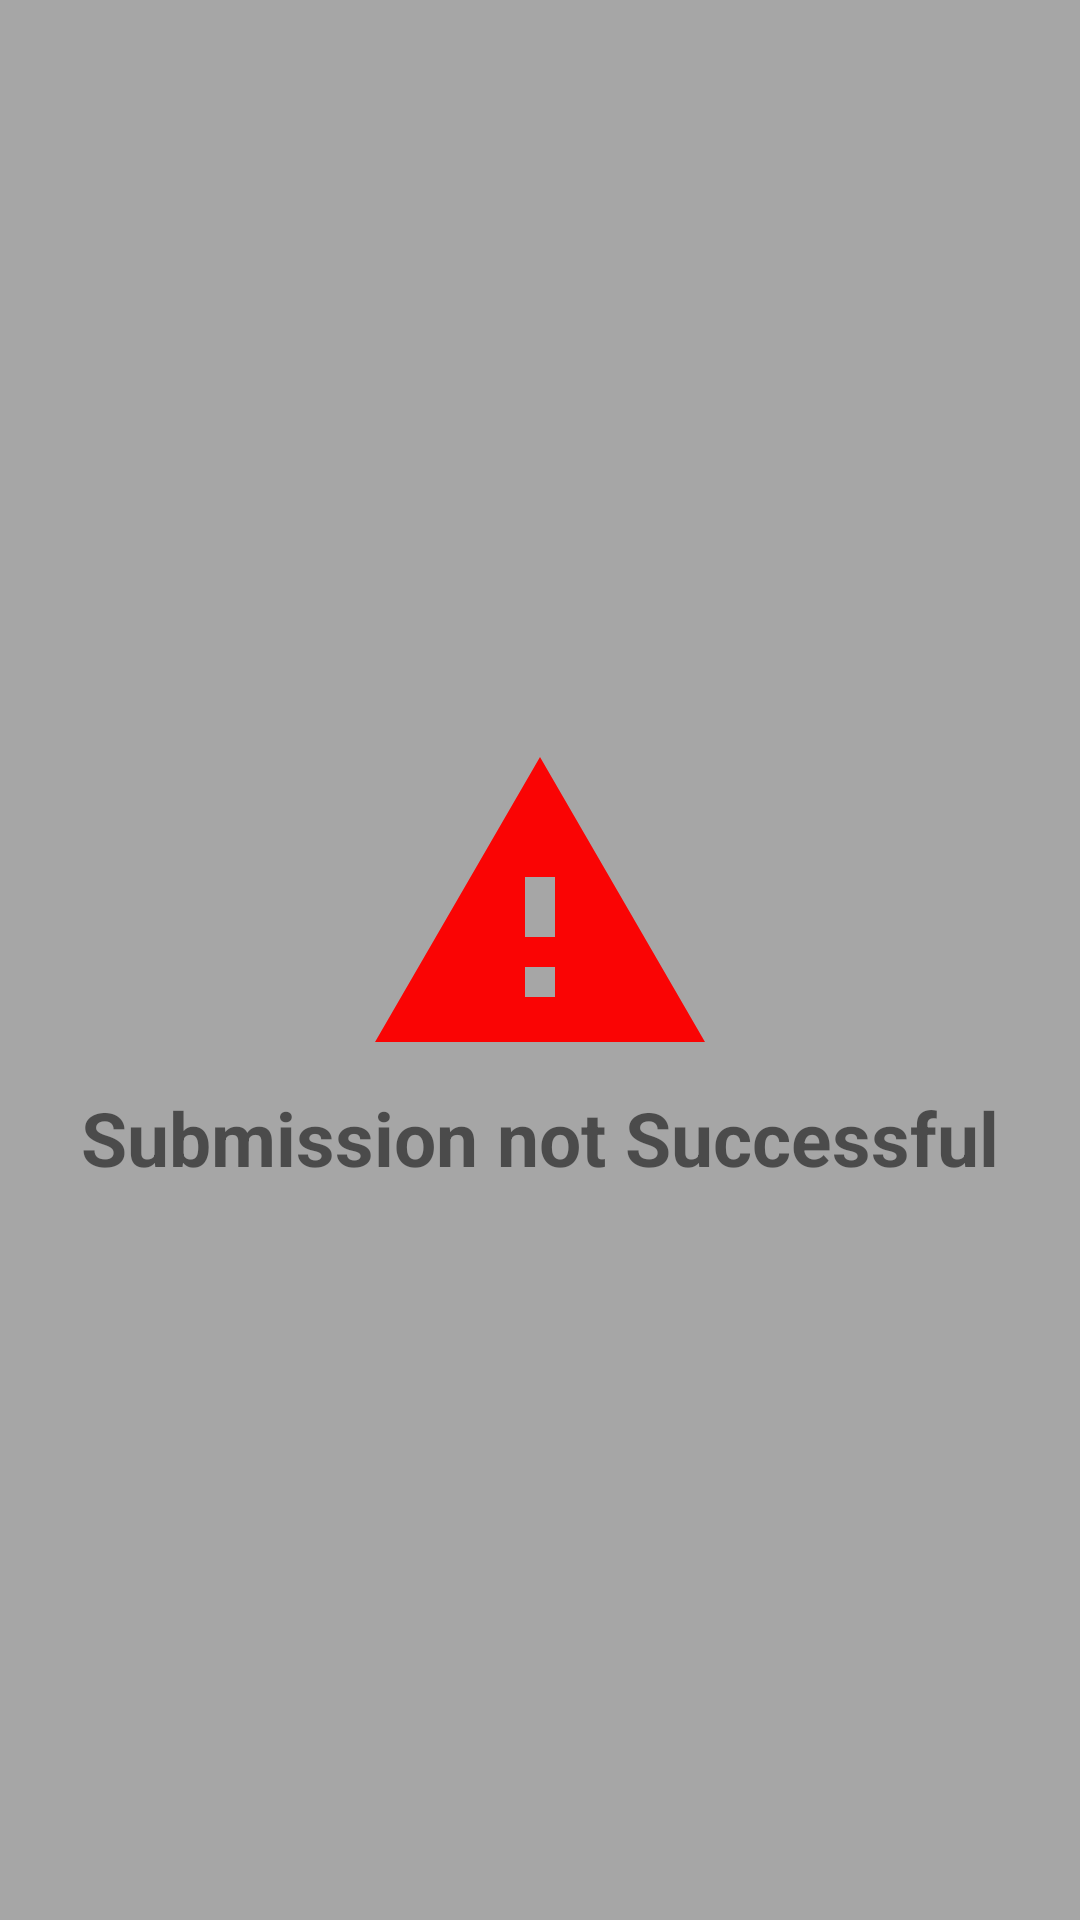

Point at icon controls on the screen. Image size 1080x1920, points as [x,y].
warning: [540,899]
